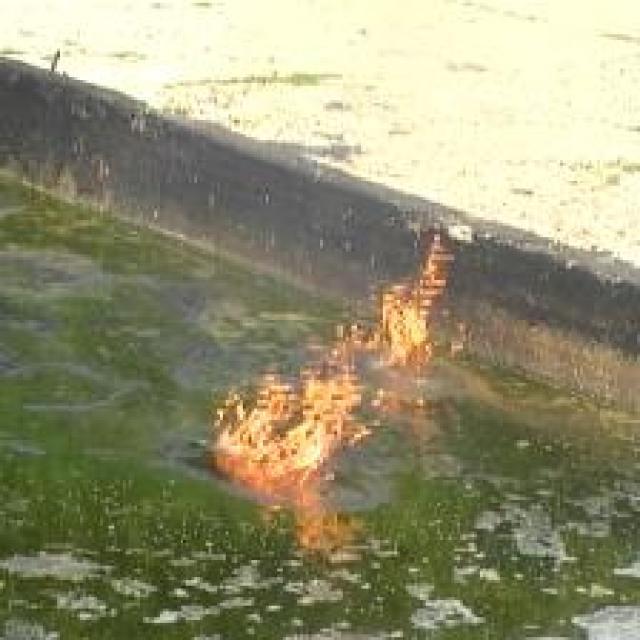Fire: (212, 234, 448, 497)
